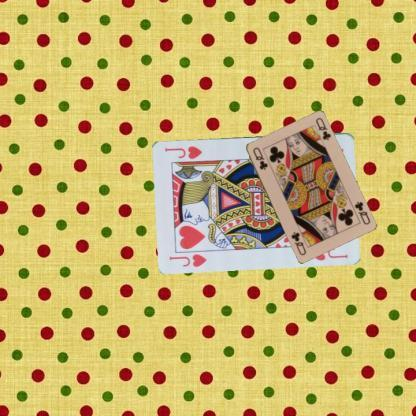Jh: (167, 251, 208, 268)
Qc: (352, 199, 371, 226), (250, 144, 268, 170)
